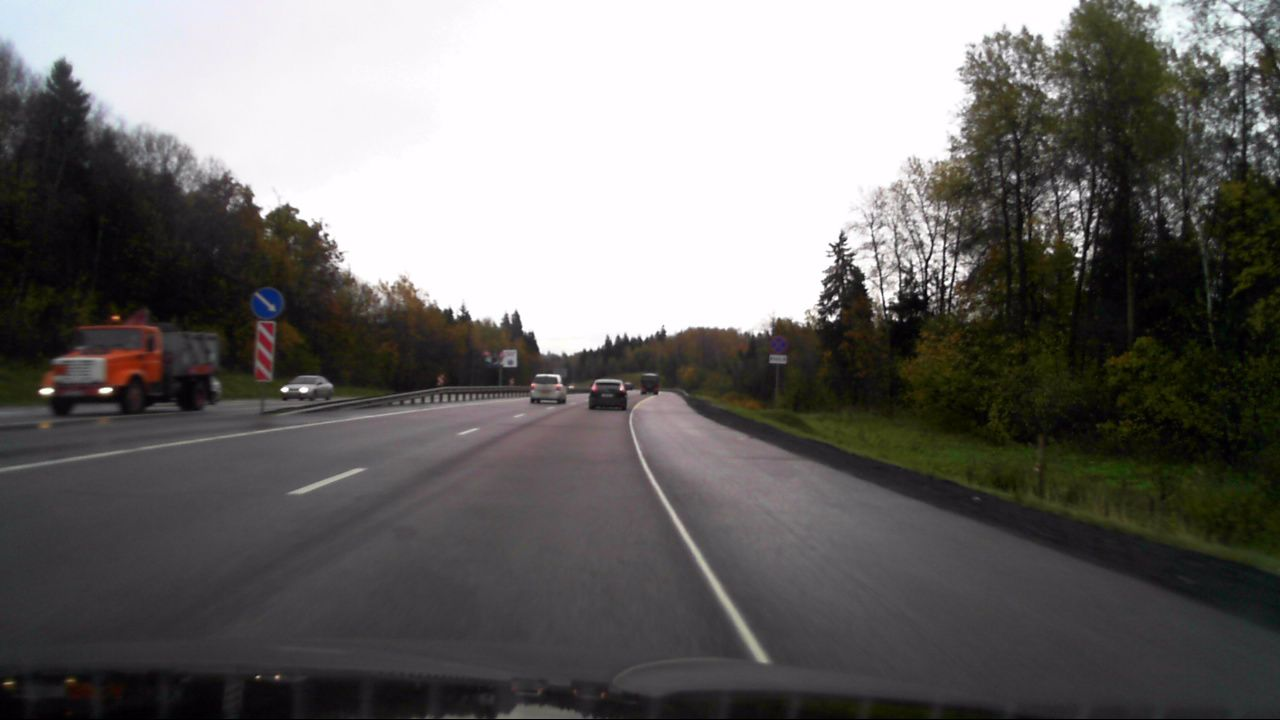No Parking: (770, 335, 787, 352)
